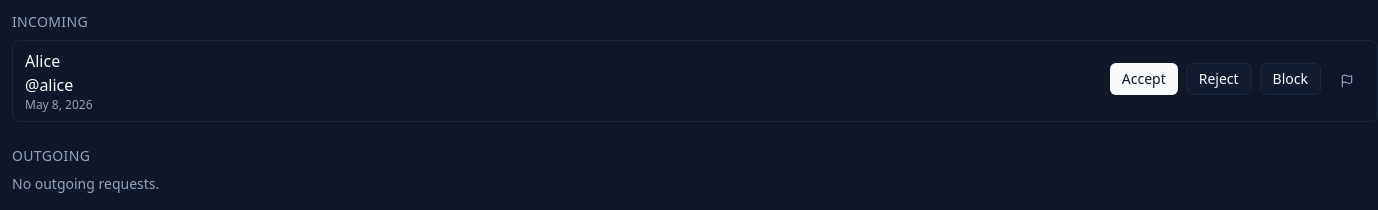
RequestsInbox › optimistically removes a row on Accept
Expected: the text "Alice" is shown, x1=25 y1=50 x2=60 y2=72
Click the button "Accept".
click(1144, 79)  # box x1=1110 y1=63 x2=1178 y2=95
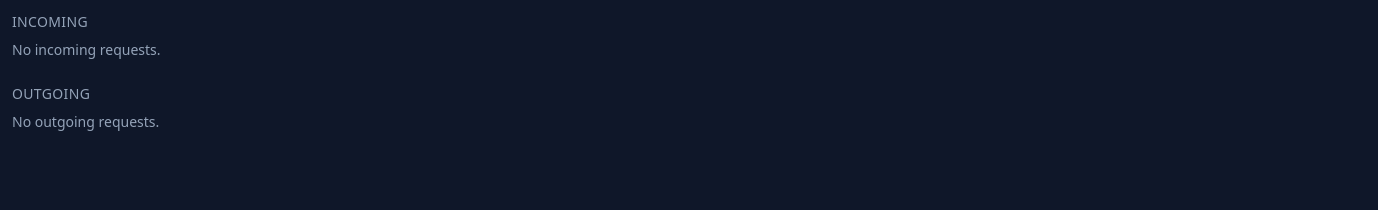
Expected: the text "Alice" is gone
